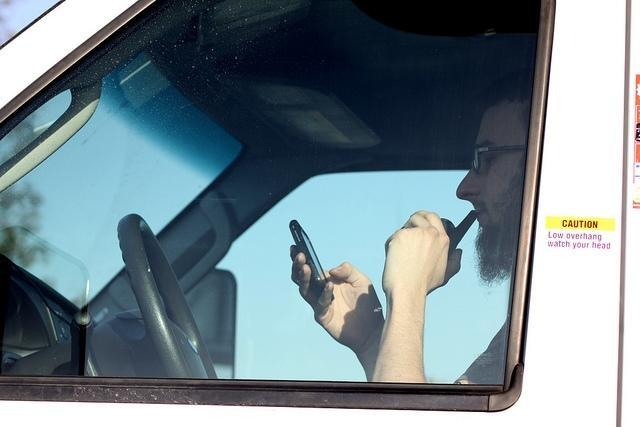car: (0, 0, 558, 385)
